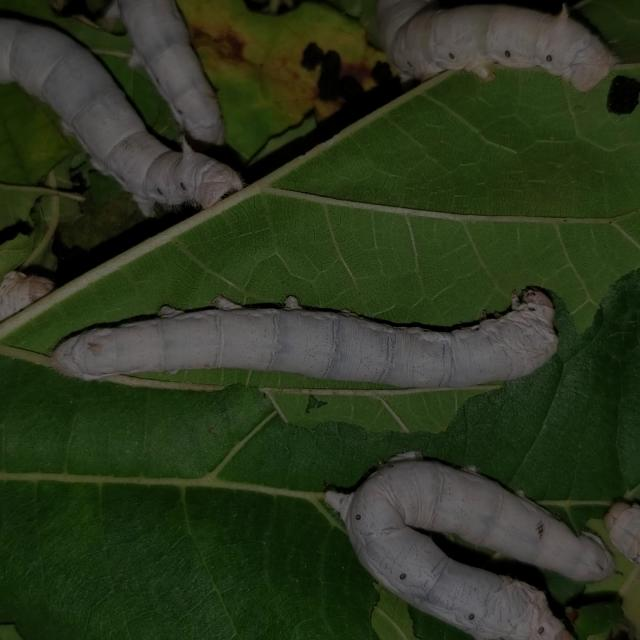Healthy: (40, 280, 564, 404), (316, 434, 616, 640)
